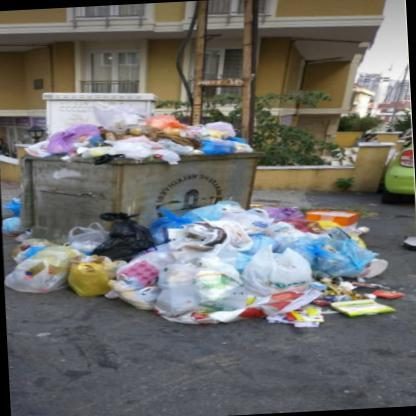Garbage: (92, 204, 294, 321), (228, 229, 374, 327), (24, 105, 248, 158), (6, 222, 136, 309)
